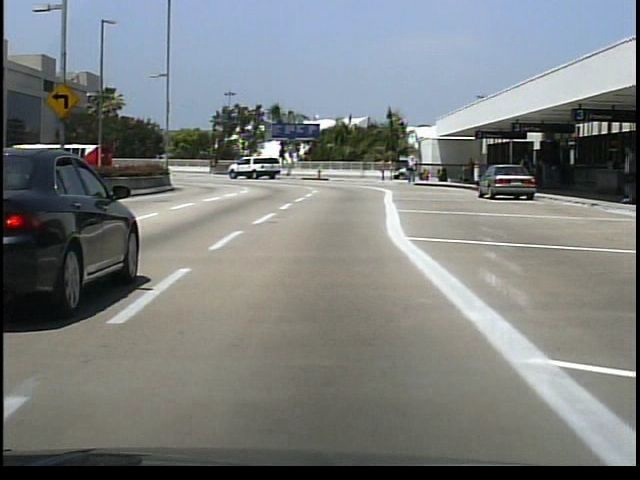person: (518, 150, 538, 196), (464, 157, 477, 187), (408, 153, 418, 186), (379, 156, 388, 182), (388, 157, 396, 181)
